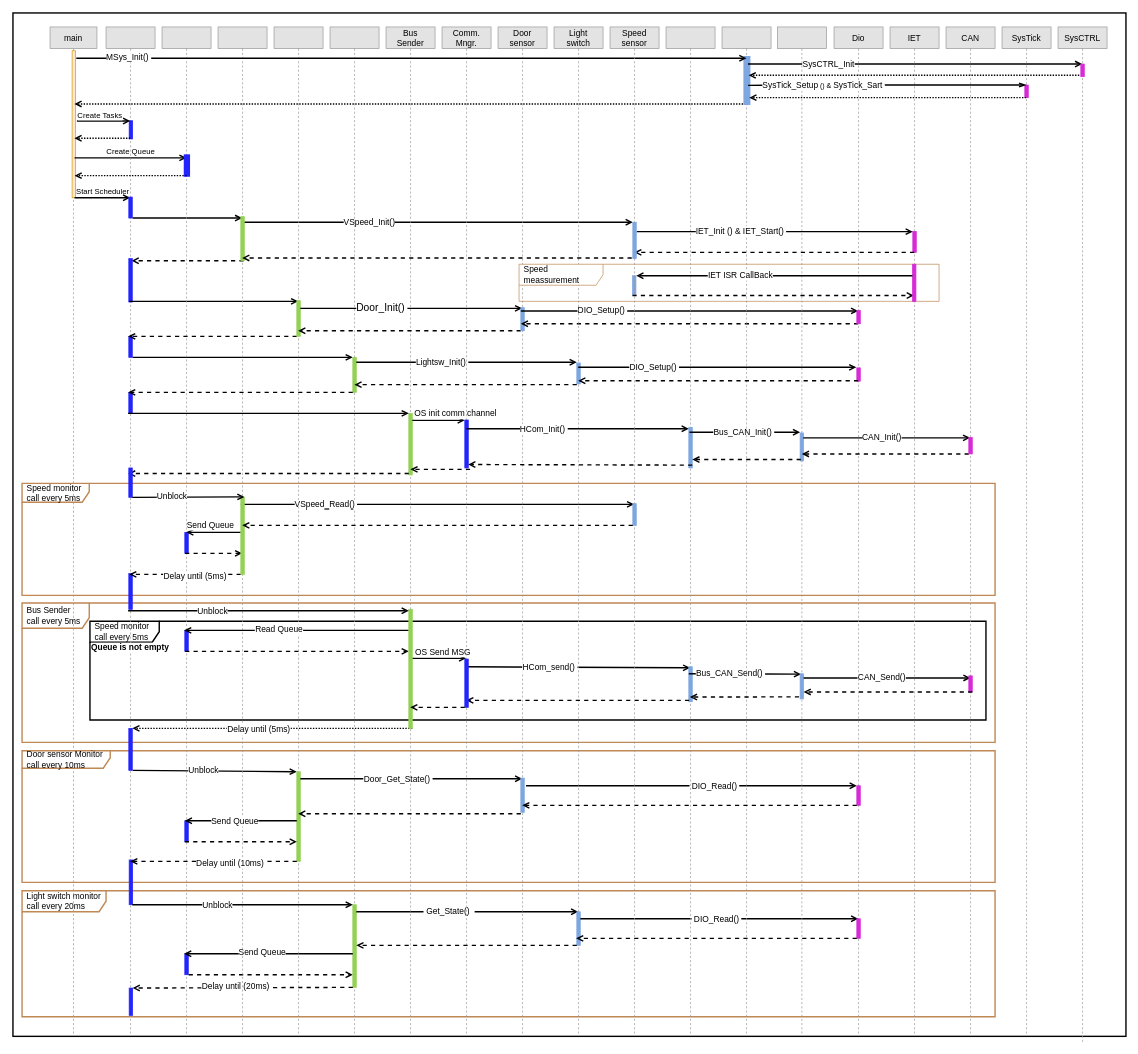
This 1138x1054 diagram has some shape labels left out. The box of each missing label's shape, as (x1, y1, x2, y2) in pixels:
CAN interface: (777, 26, 826, 1035)
Comm. handler: (665, 26, 715, 1035)
Door Monitor: (273, 26, 323, 1035)
Light Monitor: (329, 26, 379, 1035)
Queue: (161, 26, 211, 1035)
RTOS scheduler: (105, 26, 155, 1035)
Speed Monitor: (217, 26, 267, 1035)
SysCTRL interface: (721, 26, 771, 1035)
